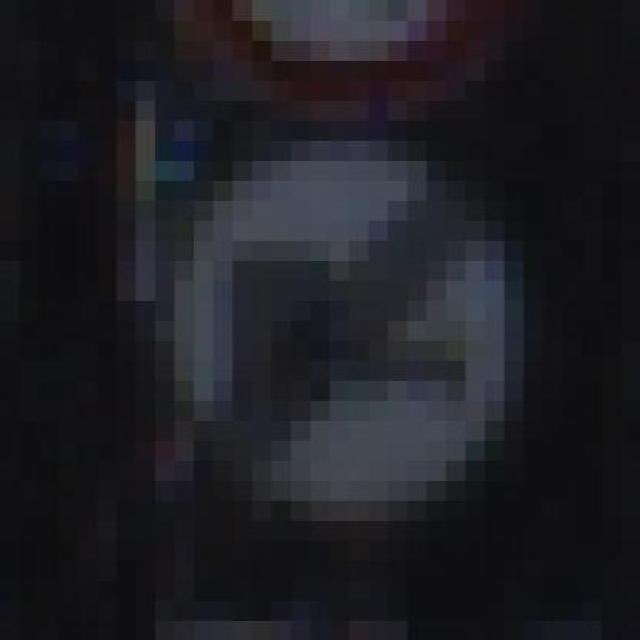Overtaking by trucks is prohibited: (97, 140, 581, 540)
